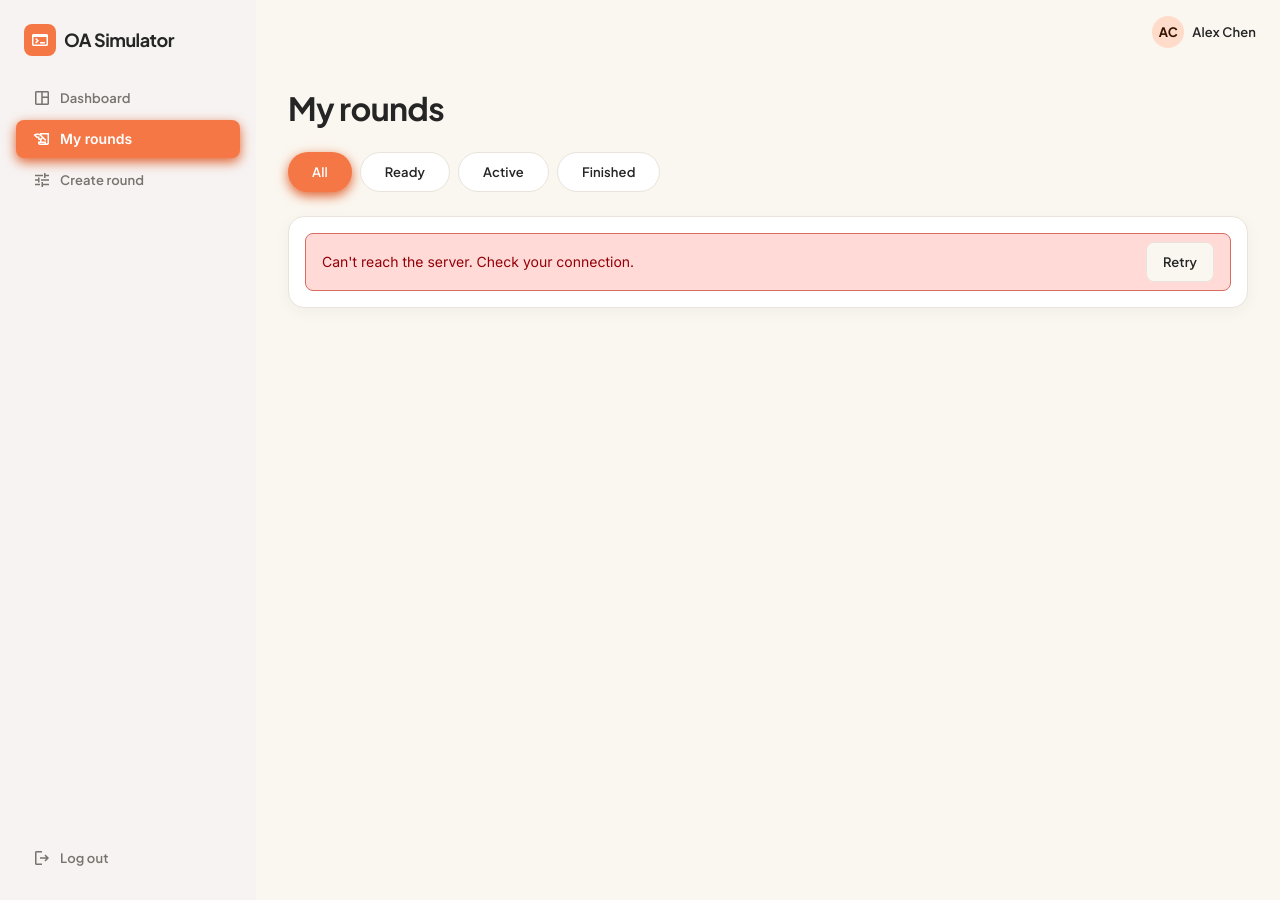
it: S6 My rounds › a network failure shows the message with Retry (never the empty state), and Retry recovers
Expected: the text "No rounds yet" is not shown
Click the button "Retry" at (1180, 262), box [1146, 242, 1214, 282]
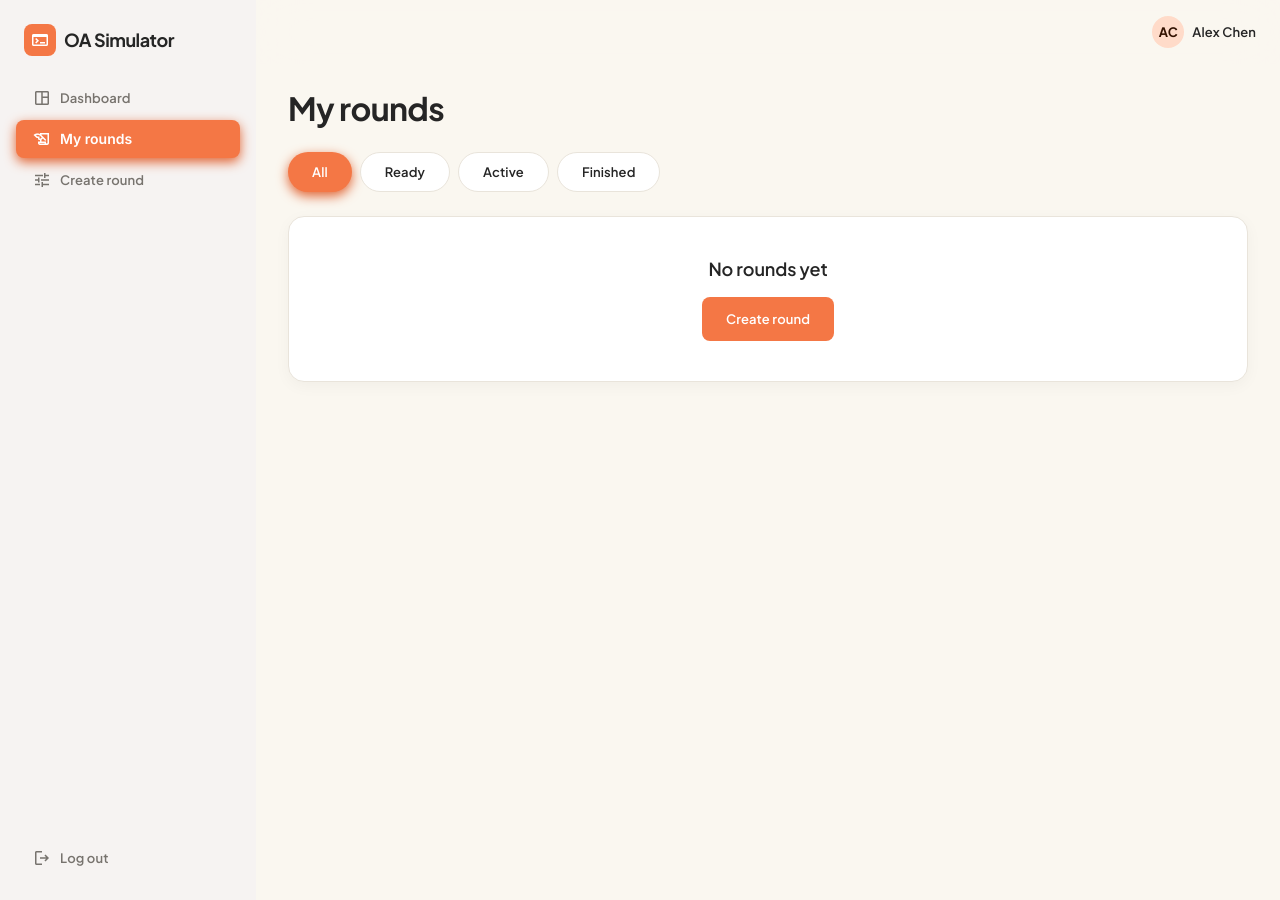
Expected: the message "Can't reach the server. Check your connection. Retry" is gone
